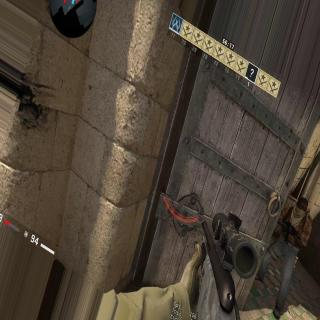T-Body: (258, 194, 312, 310)
T-Head: (294, 196, 306, 218), (307, 206, 310, 216)
